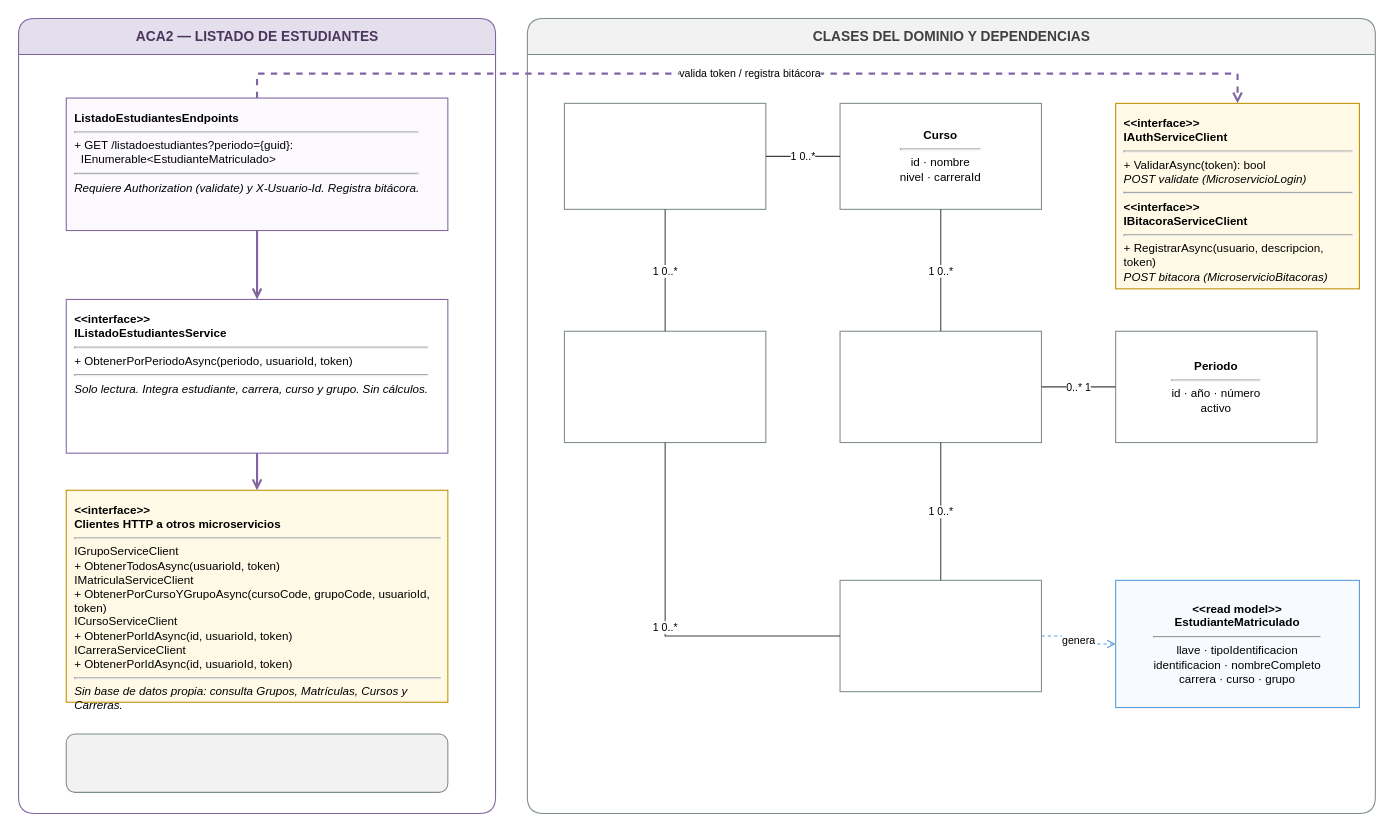
The diagram is 1394 pixels wide and 832 high, and some of its shapes have lost their labels. The shapes that lost their labels are listed below. From the top down, each one's centre as x and y in pixels, then its label:
At point (664, 155): "Carrera id · nombre".
At point (664, 386): "Estudiante id · identificación nombre · carreraId".
At point (940, 386): "Grupo id · número cursoId · periodoId".
At point (940, 635): "Matricula estudianteId · cursoId grupoId · periodoId".
At point (256, 762): "Read model: EstudianteMatriculado 7 datos por estudiante".
